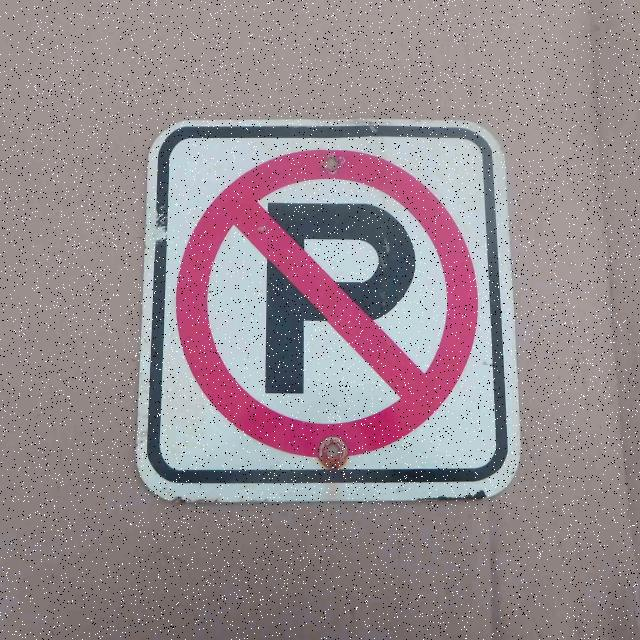No_parking: (180, 150, 480, 445)
